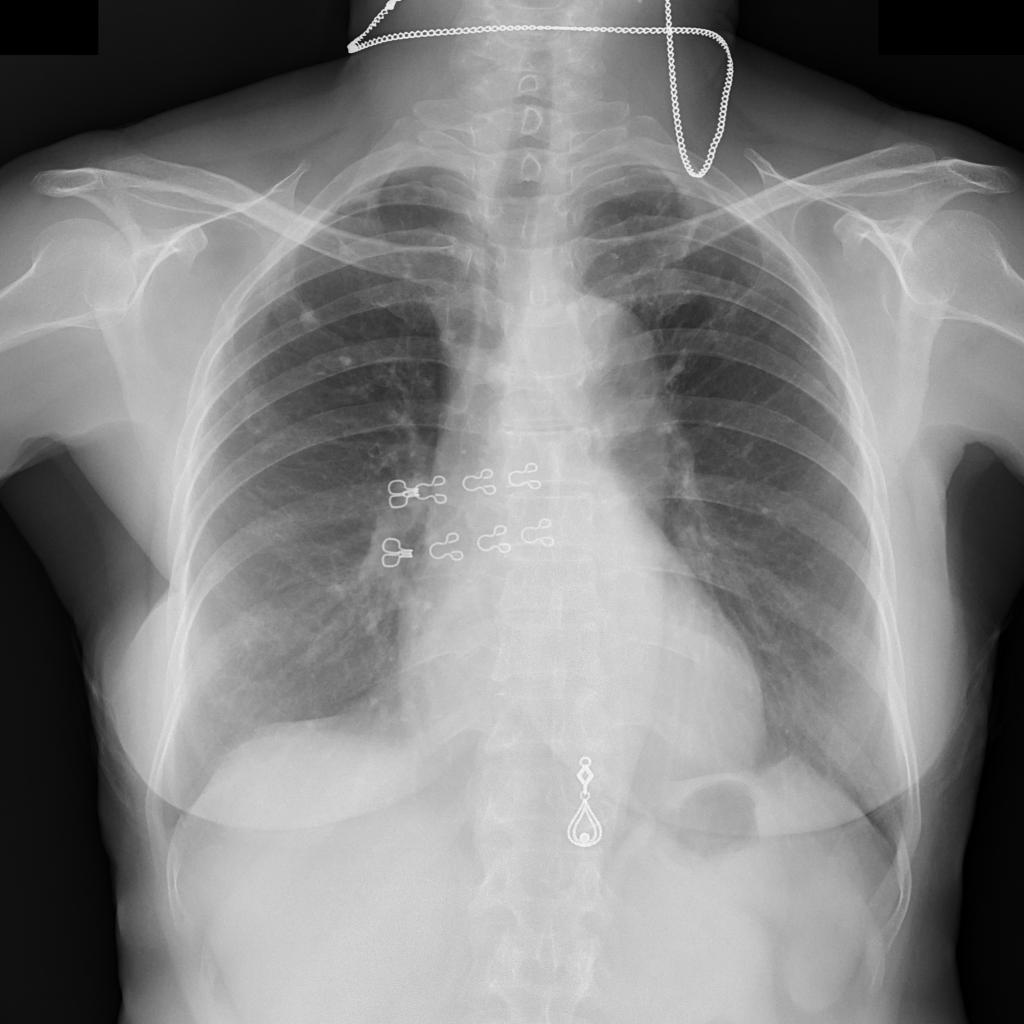Nodule: (297, 303, 317, 323), (338, 354, 354, 368)
